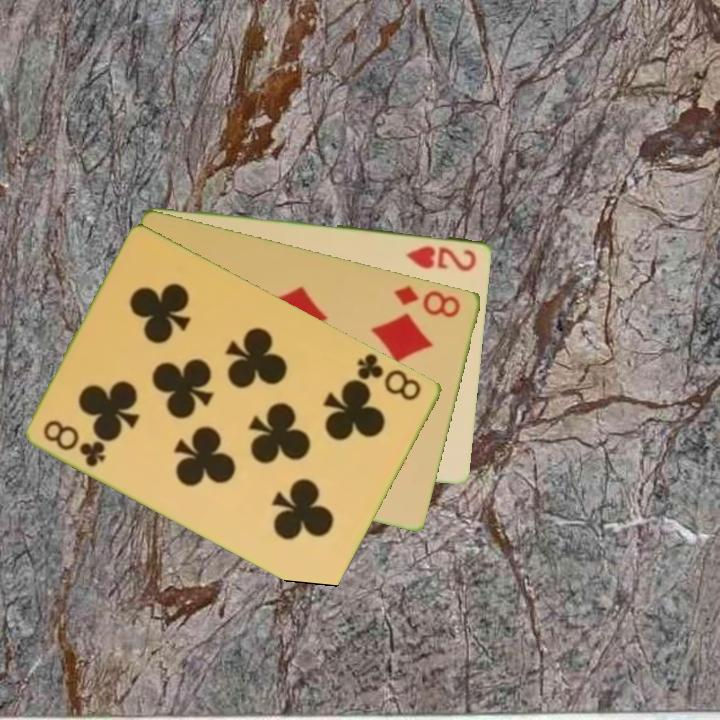2h: (402, 242, 480, 274)
8c: (352, 349, 425, 404), (40, 416, 109, 470)
8d: (391, 281, 464, 320)
